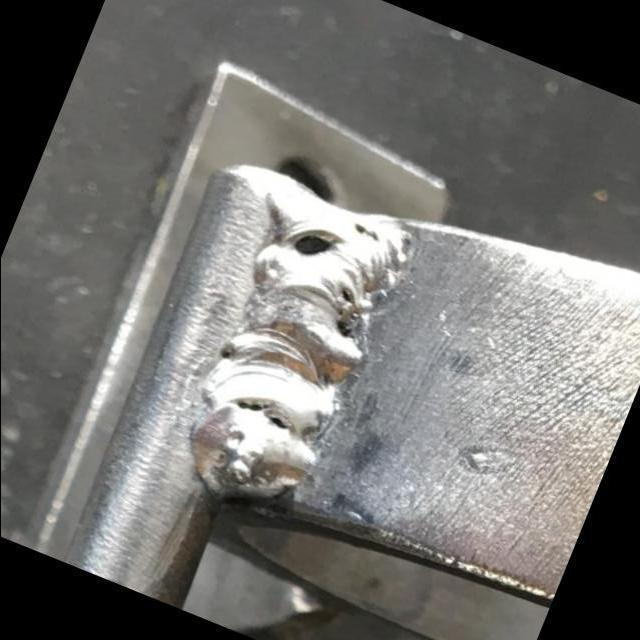defect: (281, 219, 350, 260), (232, 395, 293, 435), (323, 280, 360, 338), (216, 348, 235, 362)
